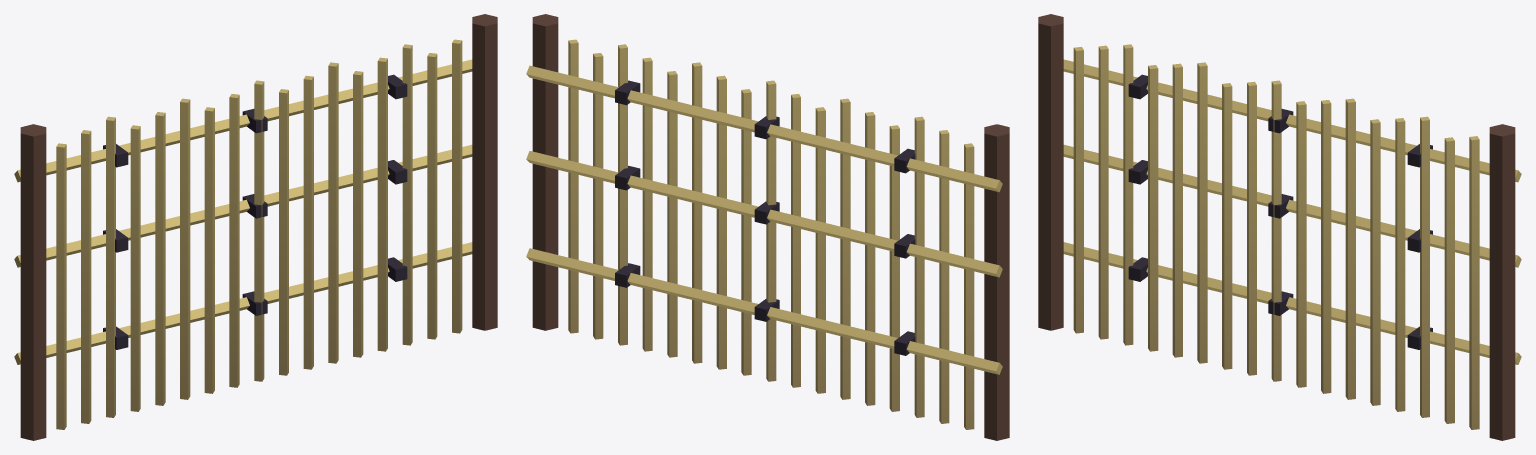
Rendered from fence_bamboo.glb.
3 views of the same model, side by side, from view 1: azimuth 30°, elevation 25°; view 2: azimuth 150°, elevation 25°; view 3: azimuth 330°, elevation 25° (orthographic).
Parts seen in each view (by area): view 1: fence_bamboo; view 2: fence_bamboo; view 3: fence_bamboo.
Boxes of the visible parts, box(x1,y1,x2,y2) form: fence_bamboo: box(14, 14, 497, 440); fence_bamboo: box(526, 14, 1009, 440); fence_bamboo: box(1038, 14, 1521, 440).
Bounding box in the file's own units: 2.05 × 1.25 × 0.1276.
